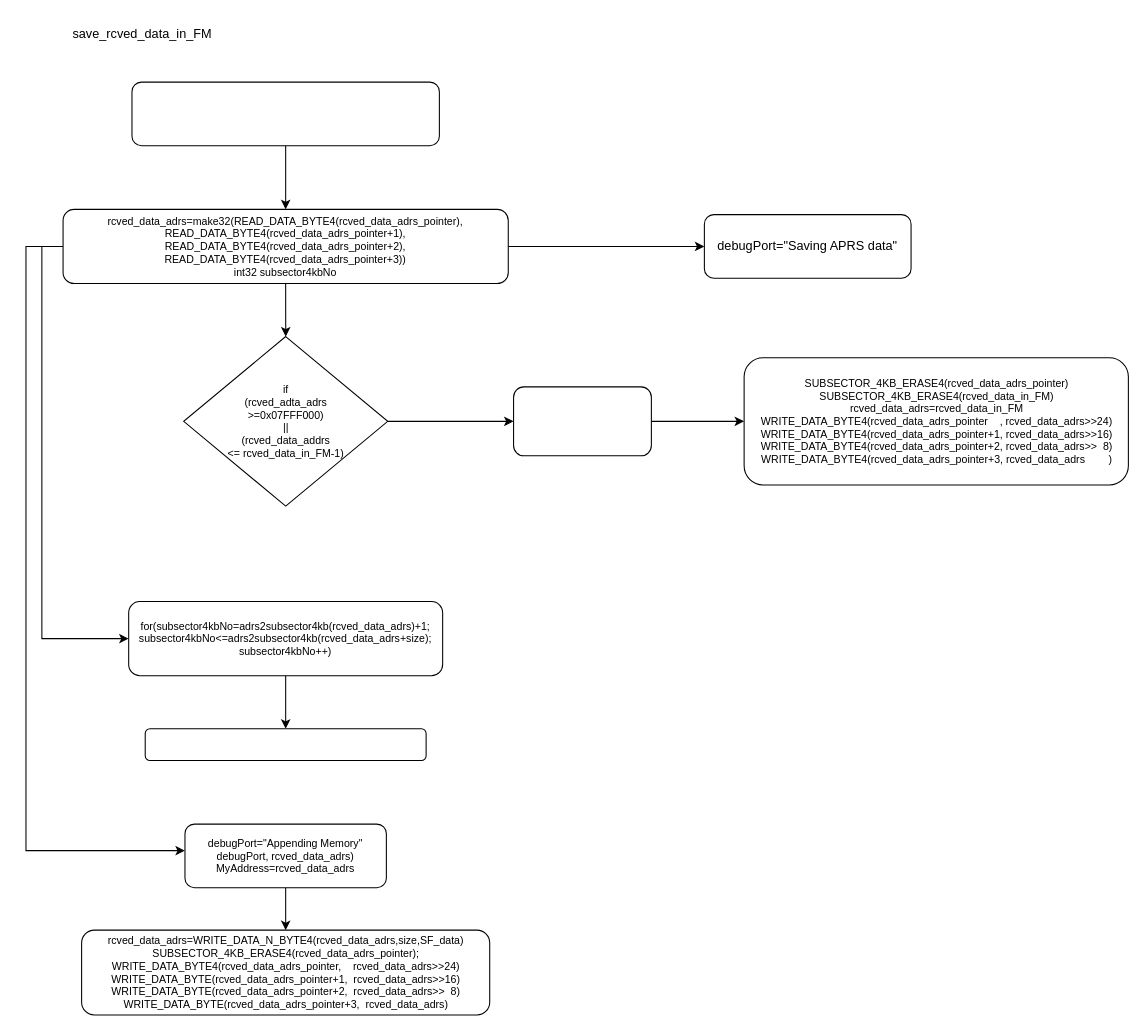
This 1147x1034 diagram has some shape labels left out. The shapes that lost their labels are listed below. From the top down, each one's centre as x and y in pixels, then its label:
point 285,113: save_rcved_data_in_FM(int8 *SFdata, int16 size)
point 582,421: debugPort= "Memory is full, erasing now & writing Afresh"
point 285,744: SUBSECTOR_4KB_ERASE4(subsector4kbNo*0x1000)
